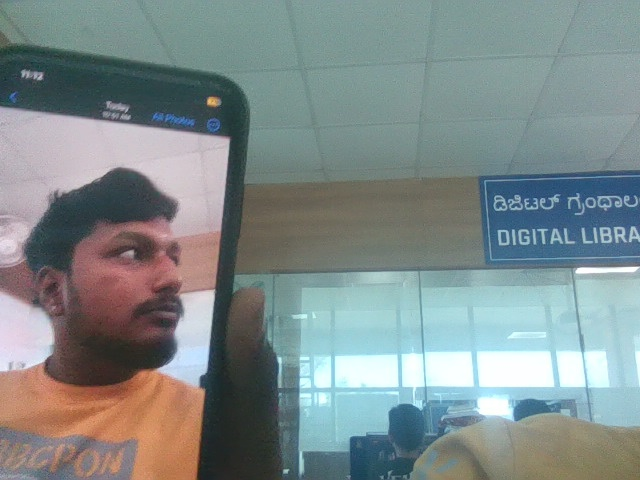fake: (55, 137, 220, 371)
